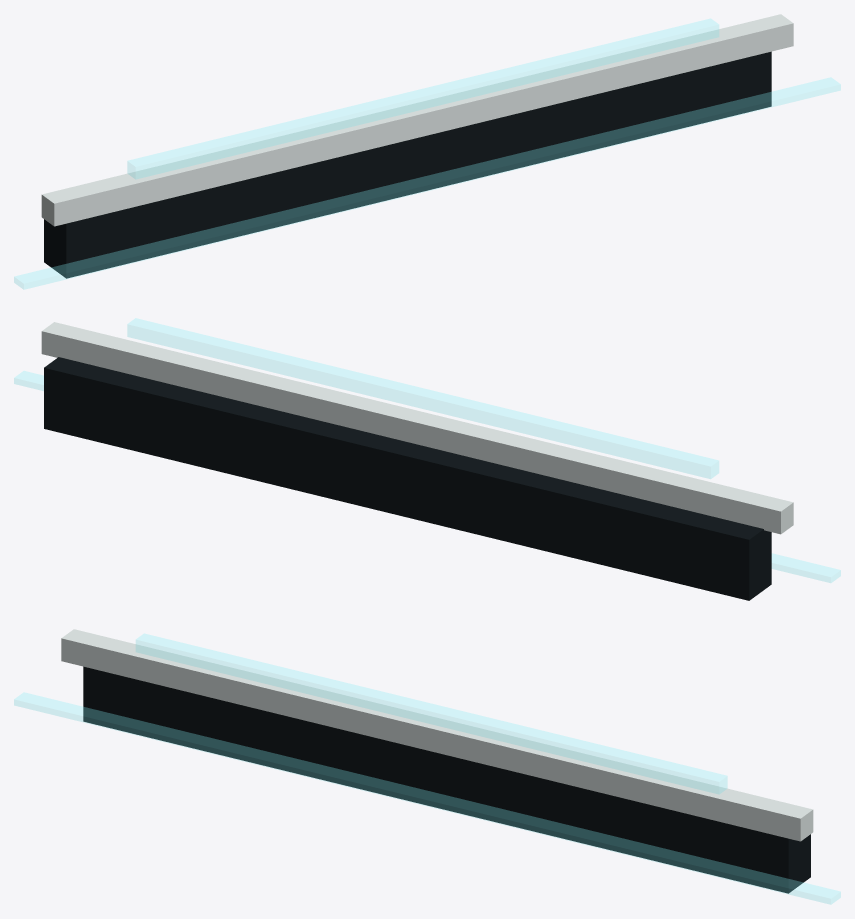
Rendered from hp_room_wall_wash_light_clinic.glb.
3 renders of one model, top to bottom at view 1: azimuth 30°, elevation 25°; view 2: azimuth 150°, elevation 25°; view 3: azimuth 330°, elevation 25°, orthographic.
Visible parts, largest first — view 1: clinic_wall_wash_mount, clinic_wall_wash_upper_lip, clinic_wall_wash_emissive_blade; view 2: clinic_wall_wash_mount, clinic_wall_wash_upper_lip, clinic_wall_wash_emissive_blade; view 3: clinic_wall_wash_mount, clinic_wall_wash_upper_lip, clinic_wall_wash_emissive_blade.
Part boxes in pixels (x1,y1,x2,y2): clinic_wall_wash_mount: [44, 51, 771, 278]; clinic_wall_wash_upper_lip: [41, 14, 793, 226]; clinic_wall_wash_emissive_blade: [14, 18, 840, 289]; clinic_wall_wash_mount: [44, 357, 771, 600]; clinic_wall_wash_upper_lip: [41, 322, 793, 534]; clinic_wall_wash_emissive_blade: [14, 318, 840, 582]; clinic_wall_wash_mount: [83, 666, 810, 893]; clinic_wall_wash_upper_lip: [61, 629, 813, 841]; clinic_wall_wash_emissive_blade: [14, 633, 840, 904].
Size of the model in its own units: 1.68 by 0.2025 by 0.1275.
